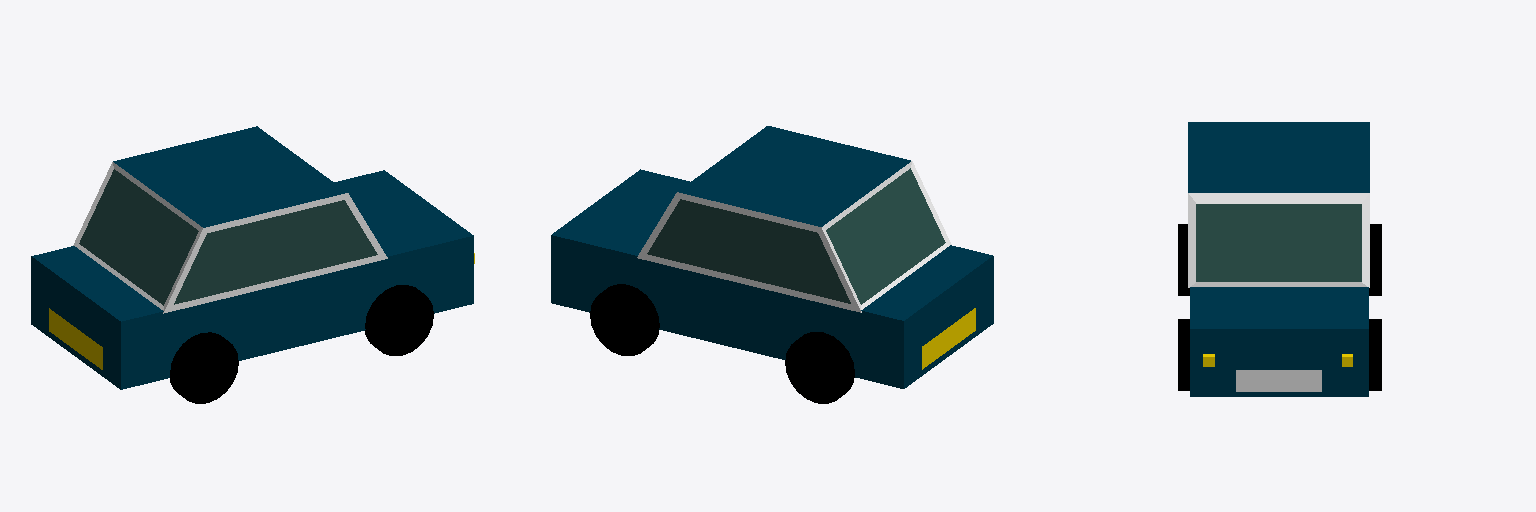
File: blue_Car.obj
3 views of the same model, side by side, from view 1: azimuth 30°, elevation 25°; view 2: azimuth 150°, elevation 25°; view 3: azimuth 270°, elevation 25° (orthographic).
Parts seen in each view (by area): view 1: pCube89; view 2: pCube89; view 3: pCube89.
Part boxes in pixels (left/top/right/bottom): pCube89: left=31, top=126, right=474, bottom=403; pCube89: left=551, top=126, right=993, bottom=403; pCube89: left=1178, top=122, right=1381, bottom=396.
Size of the model in its own units: 6.02 by 2.73 by 2.96.